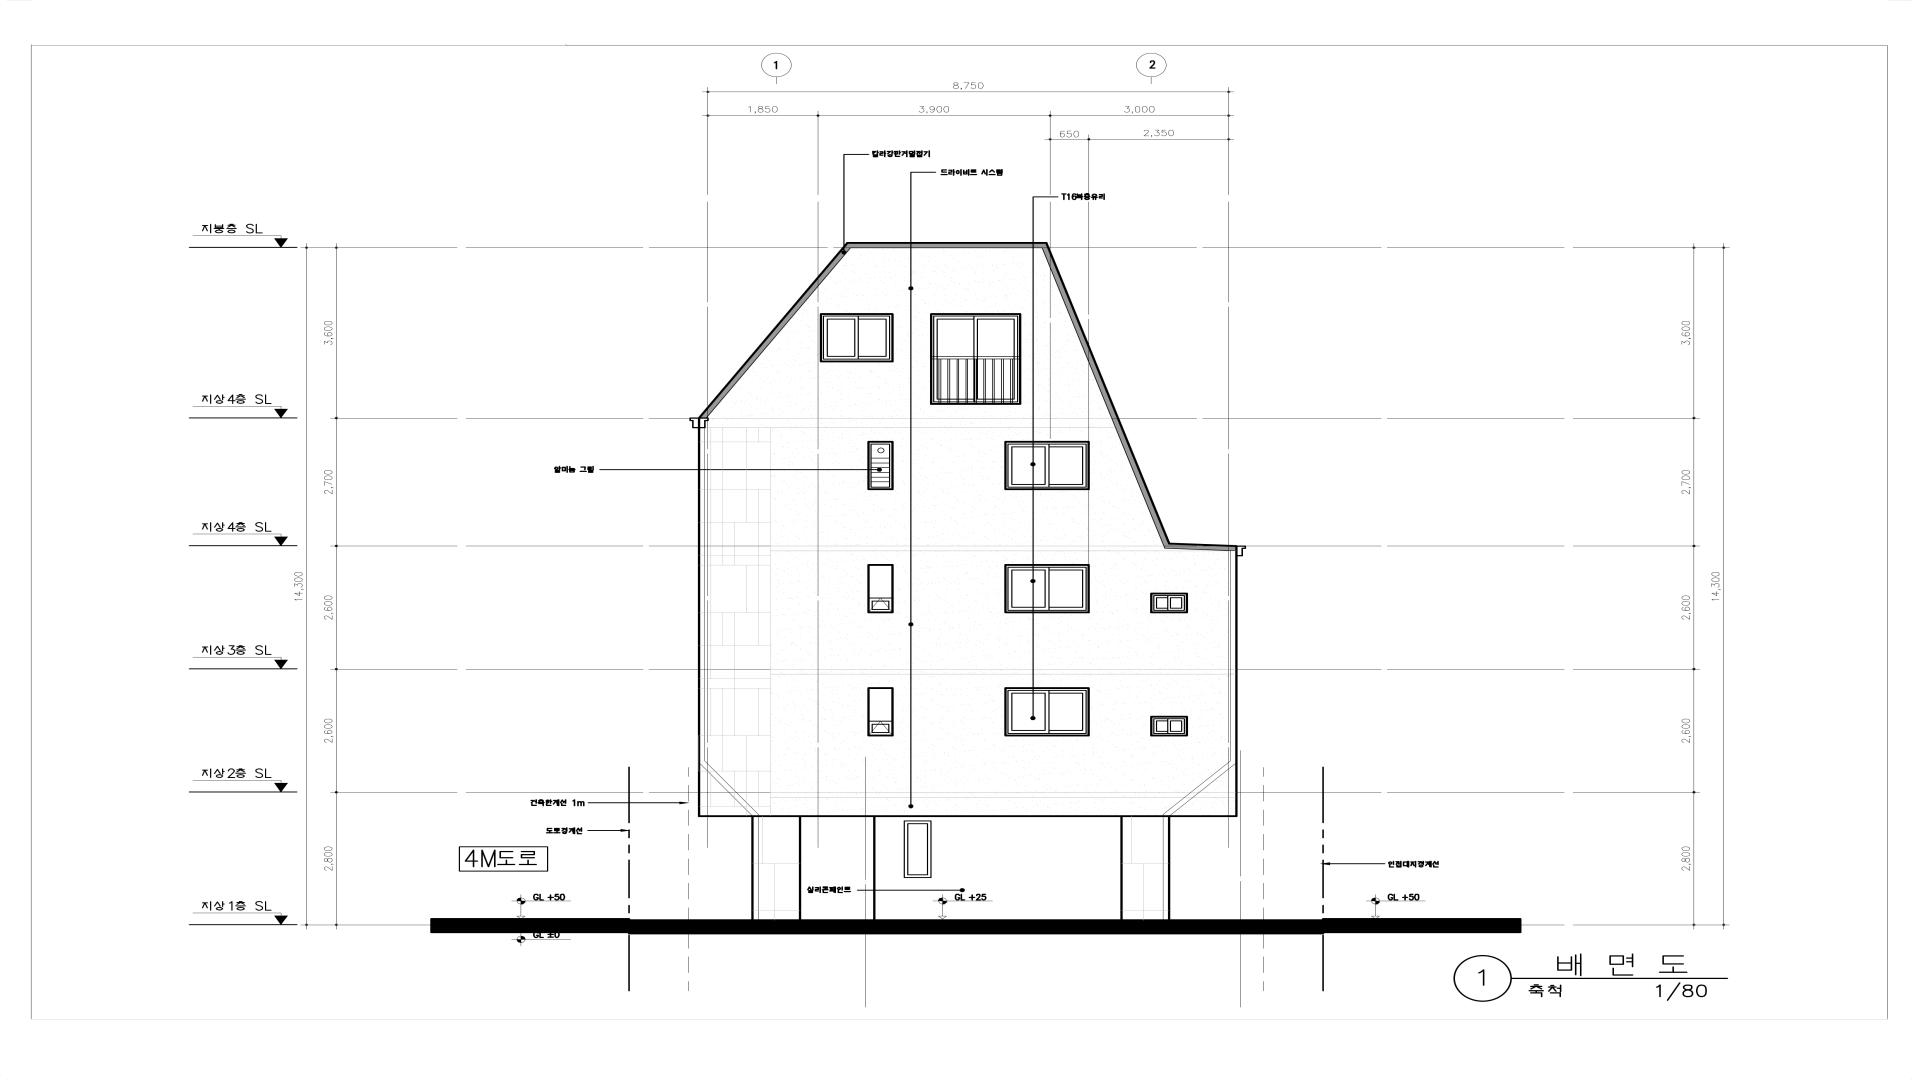wall: (698, 243, 1238, 935)
window: (930, 314, 1022, 405), (1005, 564, 1089, 613), (1005, 440, 1089, 489), (1005, 687, 1089, 736), (820, 314, 894, 363), (905, 822, 931, 878), (868, 687, 894, 737), (868, 564, 894, 613), (868, 440, 894, 489), (1150, 592, 1188, 613), (1150, 716, 1188, 737)
